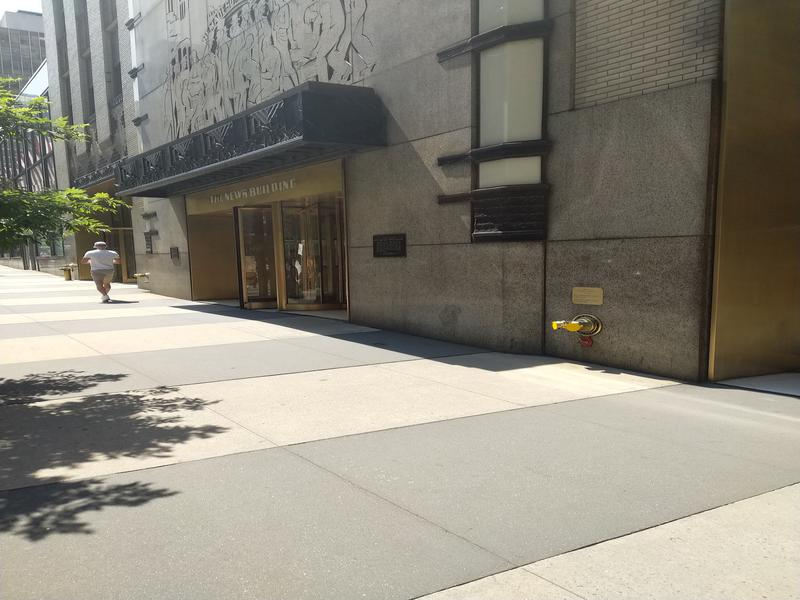revolving_door: (231, 202, 344, 311)
